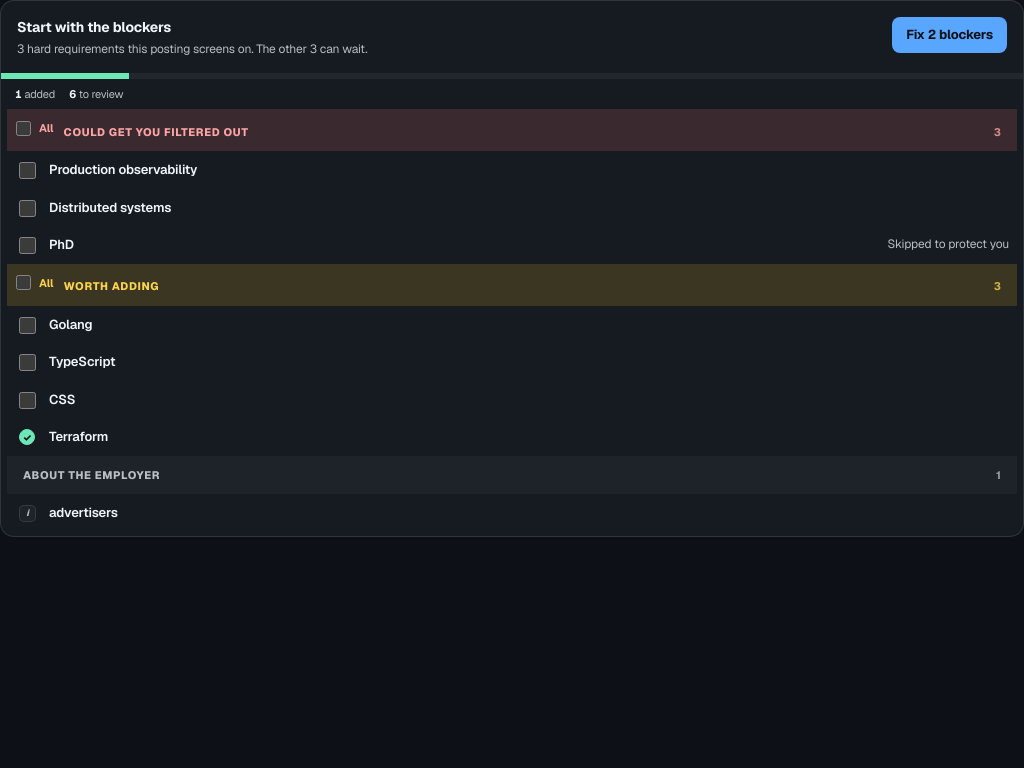
it: select all per band › clears only its own band, keeping the other band's selection
What coordinates should you click on to do the following:
click the checkbox named "Select all in Could get you filtered out"
I would click on:
 (24, 128)
Its box is top-left (16, 121), bottom-right (31, 136).
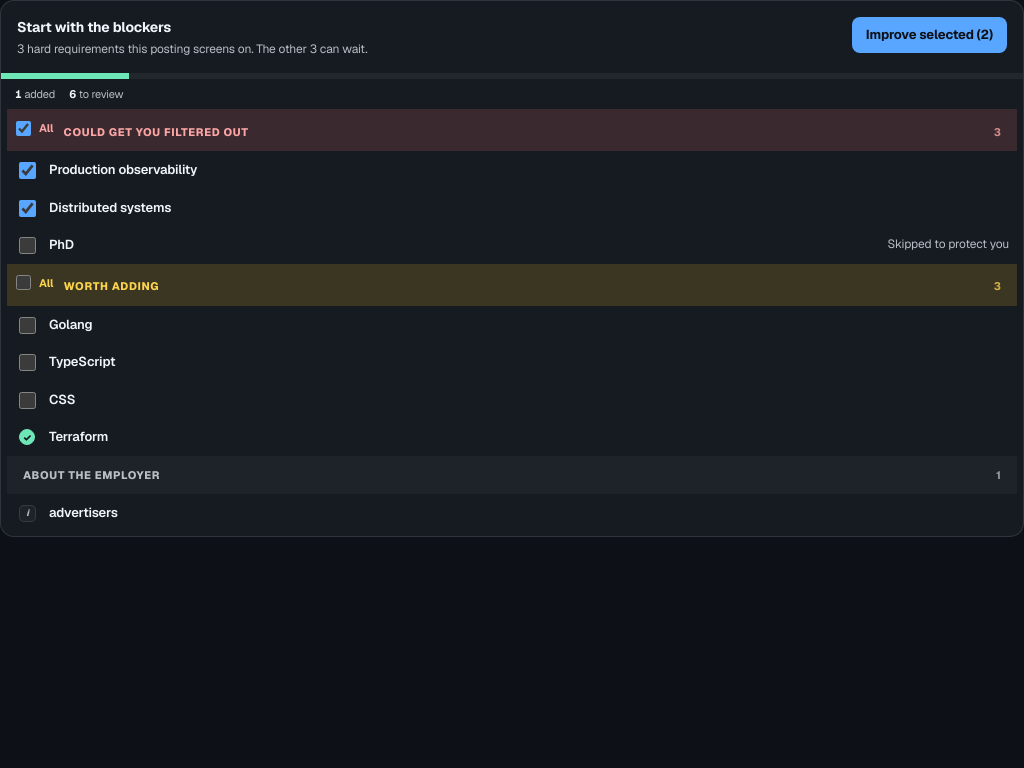
What coordinates should you click on to do the following:
click the checkbox named "Select all in Worth adding"
I would click on:
 (24, 283)
Its box is top-left (16, 275), bottom-right (31, 290).
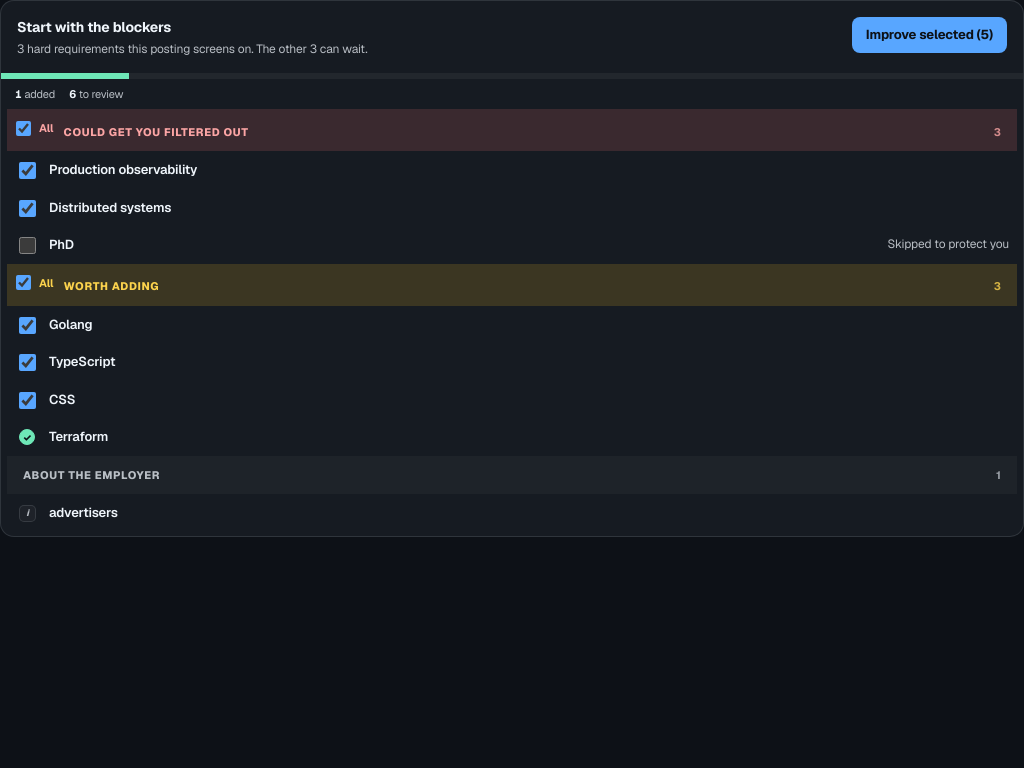
Check: the button "Improve selected (5)" is shown, box top-left (852, 17), bottom-right (1007, 52)
What coordinates should you click on to do the following:
click the checkbox named "Clear selection in Could get you filtered out"
I would click on:
 (24, 128)
Its box is top-left (16, 121), bottom-right (31, 136).
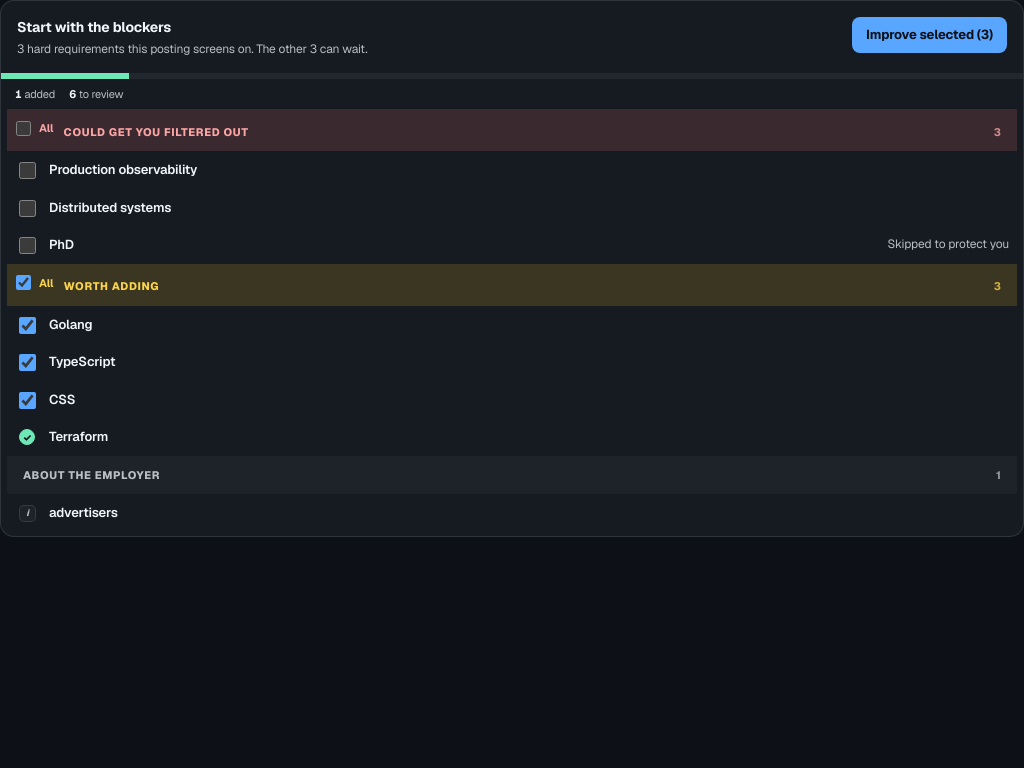
Check: the checkbox named "Select Golang" is checked, box top-left (19, 317), bottom-right (36, 334)
Check: the button "Improve selected (3)" is shown, box top-left (852, 17), bottom-right (1007, 52)
